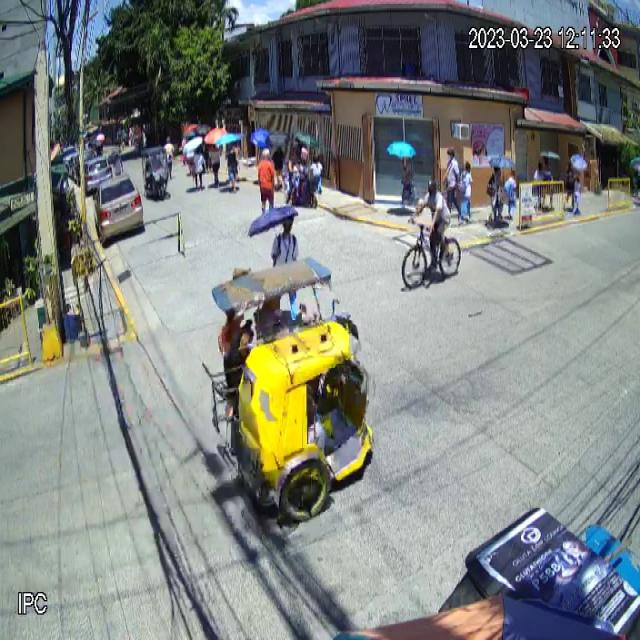Tricycle: (201, 255, 378, 523)
